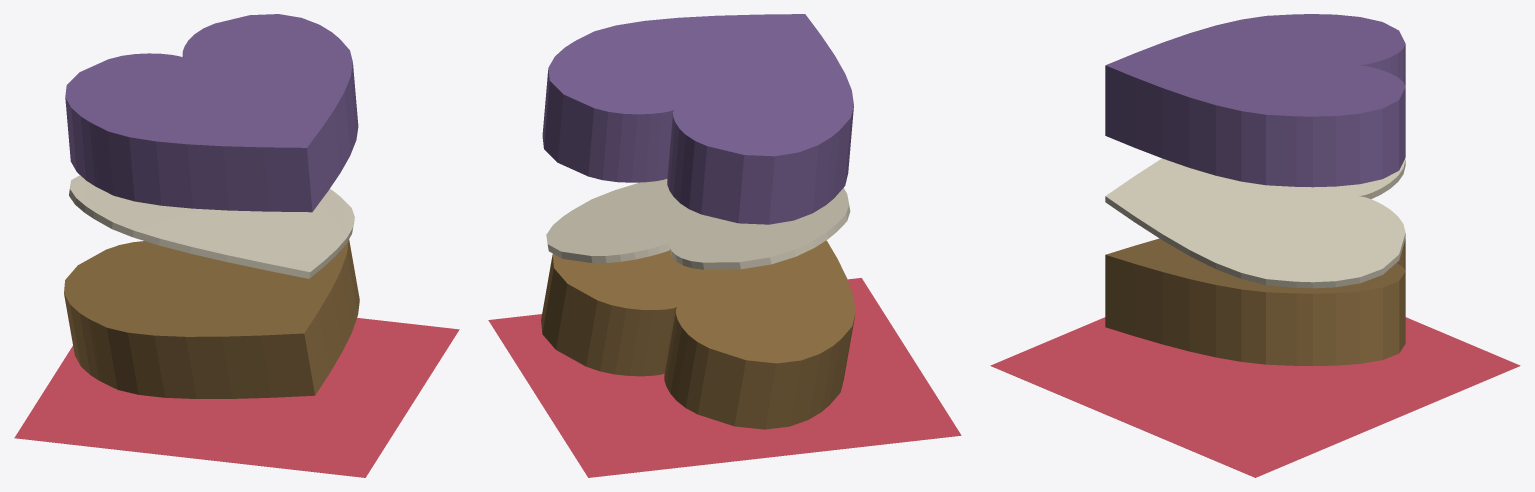
The model's file is CVU.glb.
The picture shows the model from 3 angles, left to right: view 1: azimuth 30°, elevation 25°; view 2: azimuth 150°, elevation 25°; view 3: azimuth 270°, elevation 25°; orthographic projection. The views are drawn at different scales.
Visible parts, largest first — view 1: Mesh_Mesh_head_geo.001_lambert2SG.001; view 2: Mesh_Mesh_head_geo.001_lambert2SG.001; view 3: Mesh_Mesh_head_geo.001_lambert2SG.001.
Boxes of the visible parts, box(x1,y1,x2,y2) form: Mesh_Mesh_head_geo.001_lambert2SG.001: box(14, 14, 459, 477); Mesh_Mesh_head_geo.001_lambert2SG.001: box(488, 14, 961, 477); Mesh_Mesh_head_geo.001_lambert2SG.001: box(990, 14, 1520, 477).
Size of the model in its own units: 0.0354 by 0.0229 by 0.0354.
